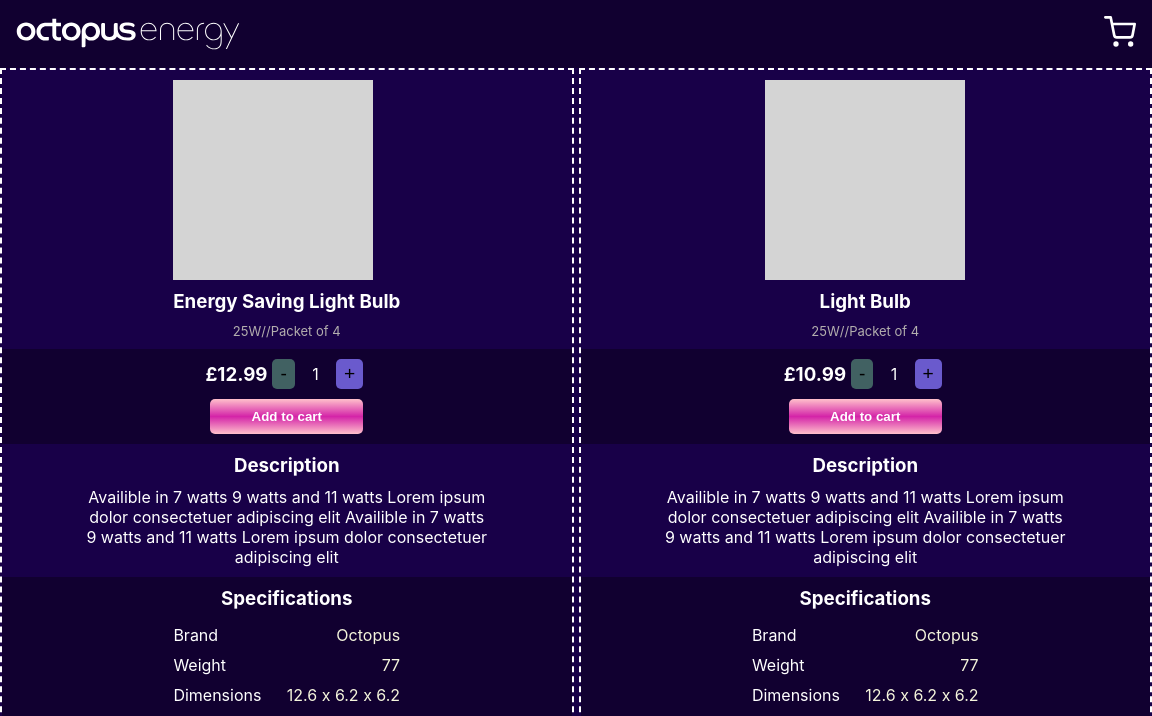
Scenario: My First Test › Adds items to the shopping cart
Click the button with class "add-btn" below "£12.99".
click(287, 417)  # box [210,399,363,434]
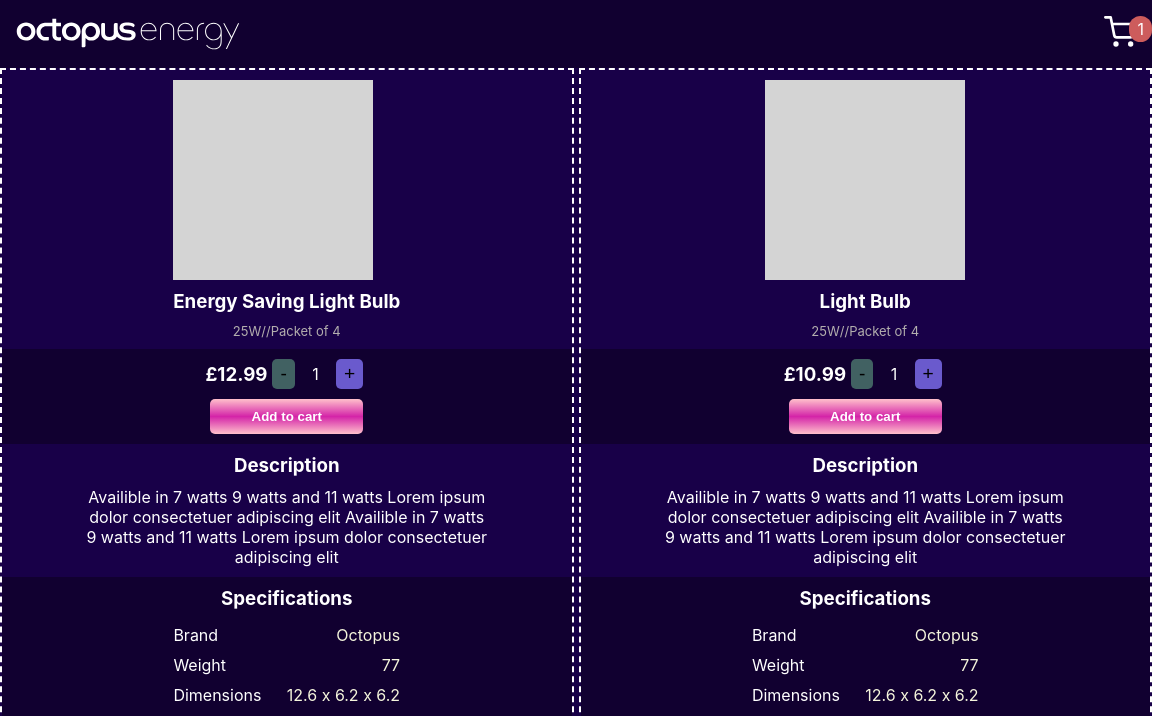
Expected: the text with class "total-quantity" is shown, [1130,16,1151,42]
